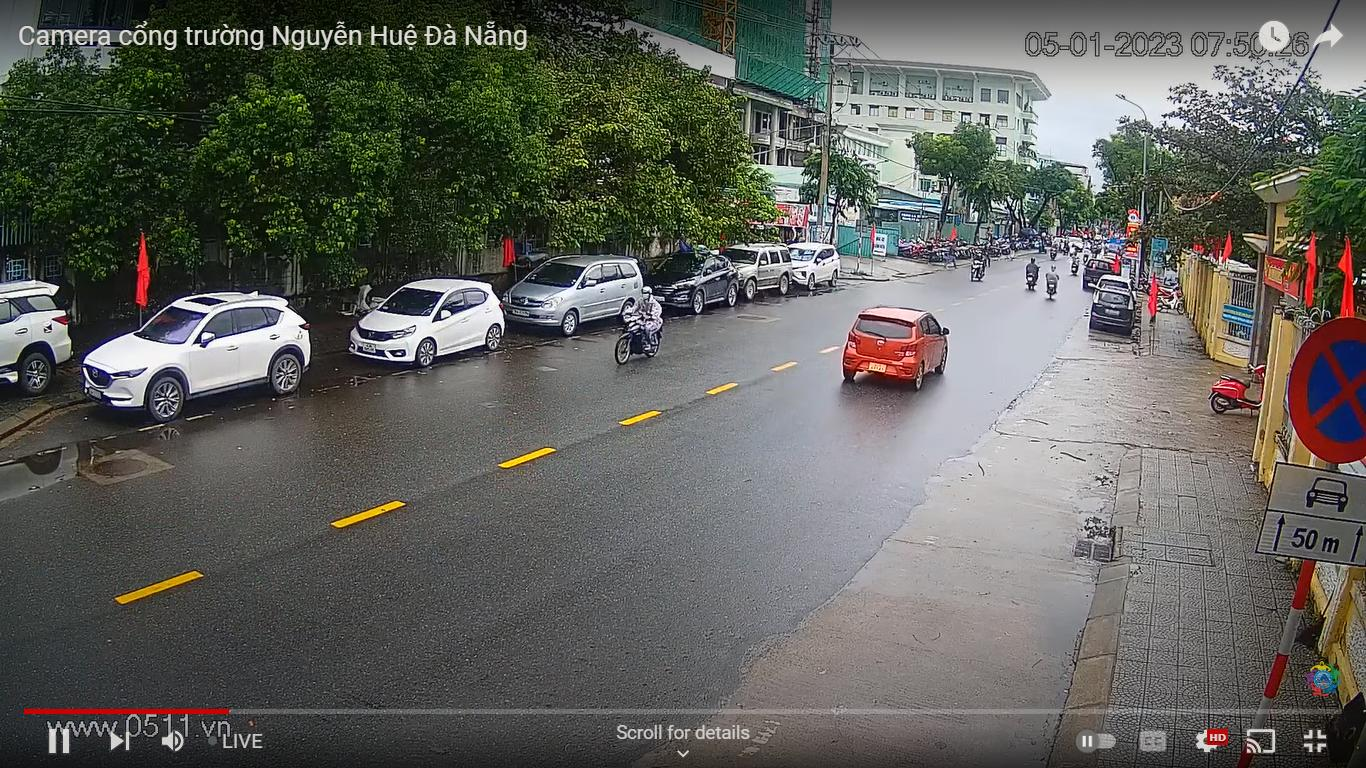car: (79, 288, 315, 426), (343, 278, 507, 370), (502, 250, 647, 334), (837, 303, 958, 395), (0, 276, 70, 398), (642, 248, 742, 313), (718, 239, 793, 299), (792, 240, 842, 289), (1089, 288, 1138, 335), (1083, 258, 1116, 290)
motorcycle: (610, 285, 669, 367), (1208, 358, 1267, 419), (967, 246, 991, 283), (1042, 262, 1061, 300), (1025, 254, 1042, 294), (1070, 251, 1081, 276), (1050, 240, 1058, 260)
